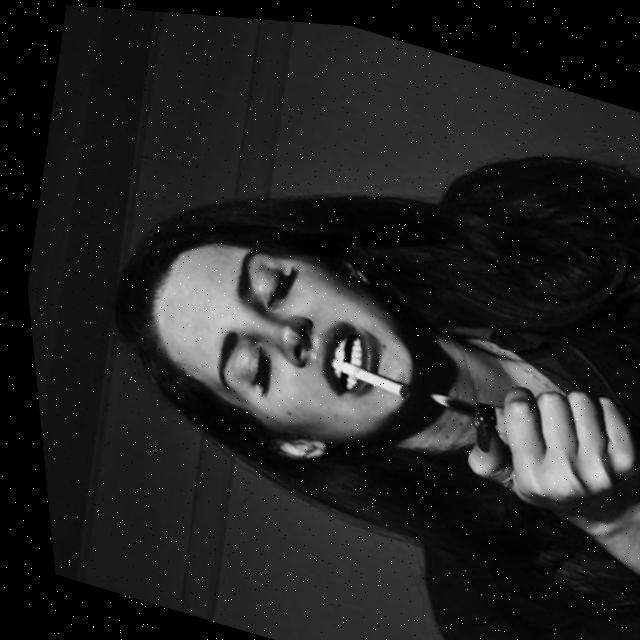cigarette: (340, 361, 410, 397)
